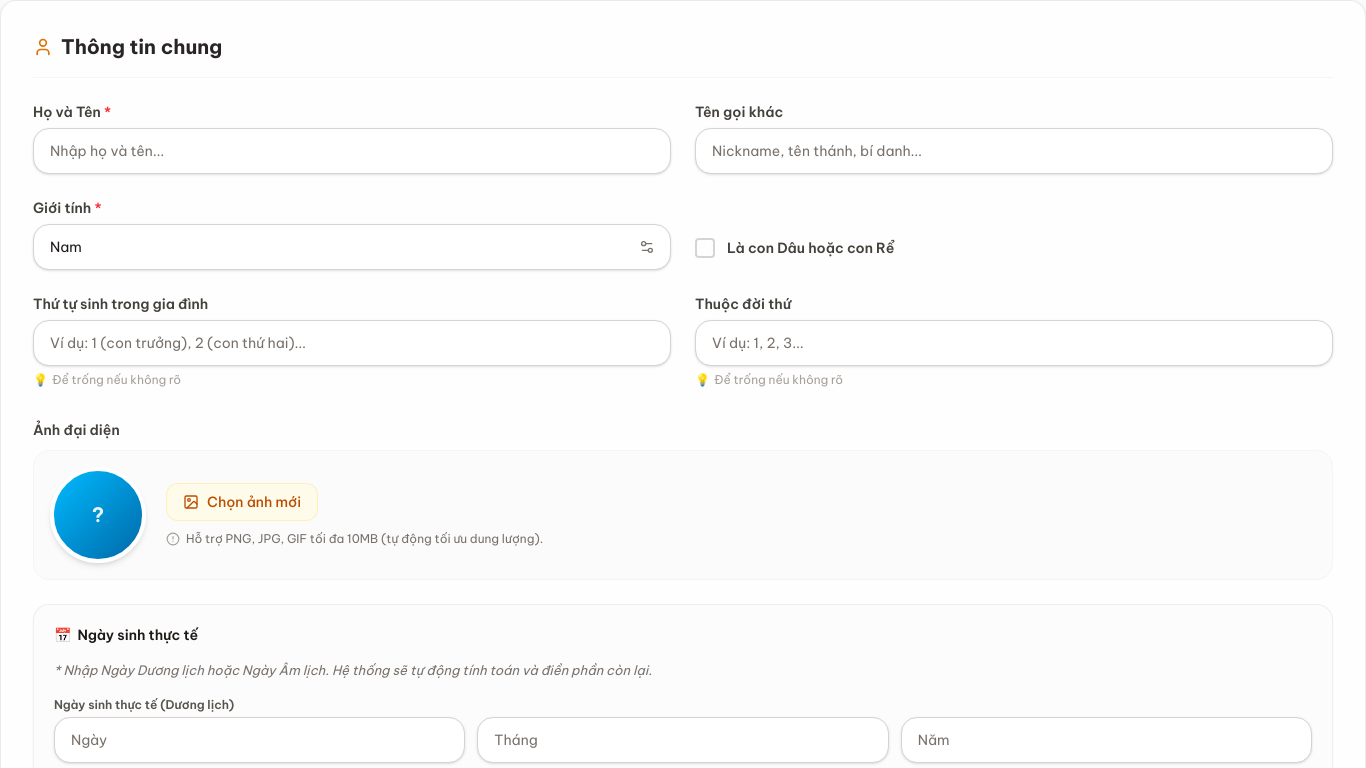
Test: MemberForm › validation › năm mất < năm sinh → hiện lỗi
This screenshot has width=1366, height=768.
Type "Test" into the field with placeholder "Nhập họ và tên...".
click(352, 151); type("Test")  # box top-left (33, 128), bottom-right (671, 174)
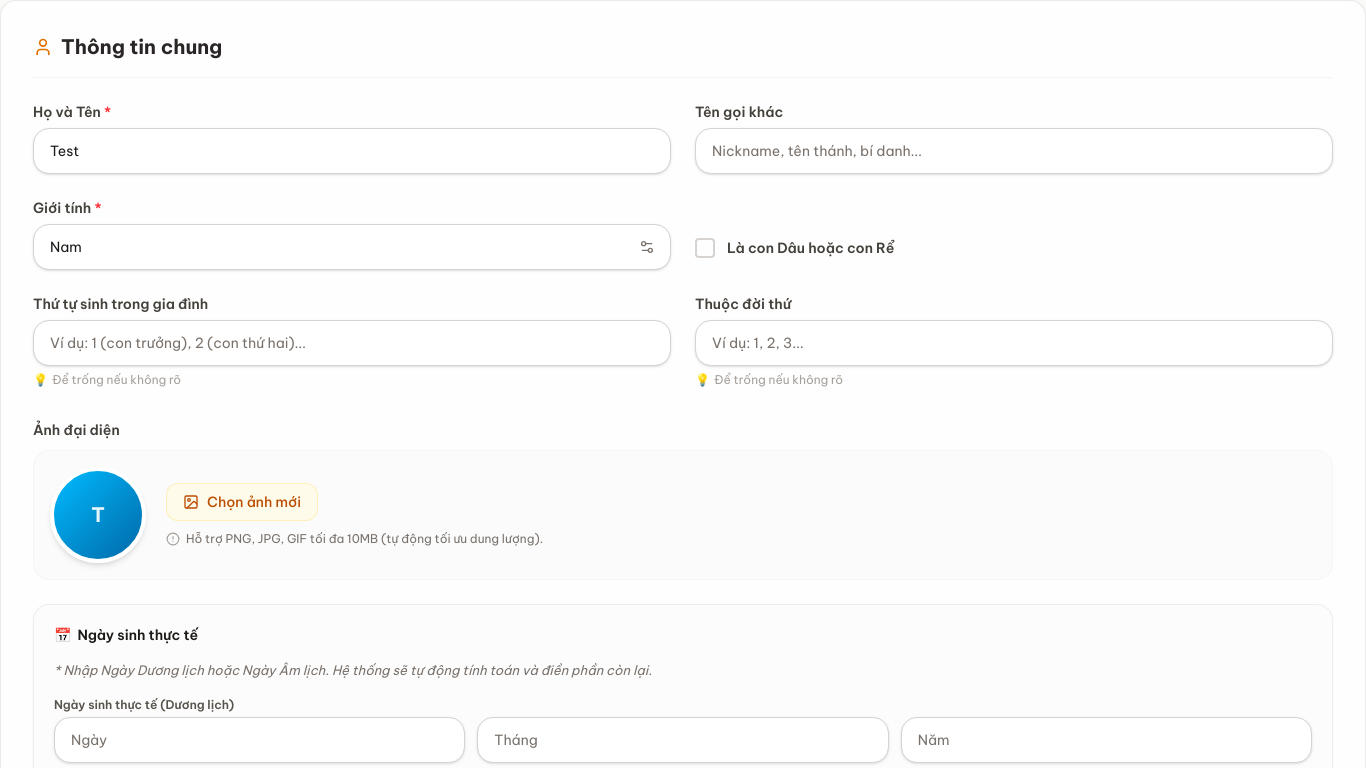
Type "1980" into the number field with placeholder "Năm".
click(1106, 740); type("1980")  # box top-left (901, 716), bottom-right (1312, 762)
(page scrolled)
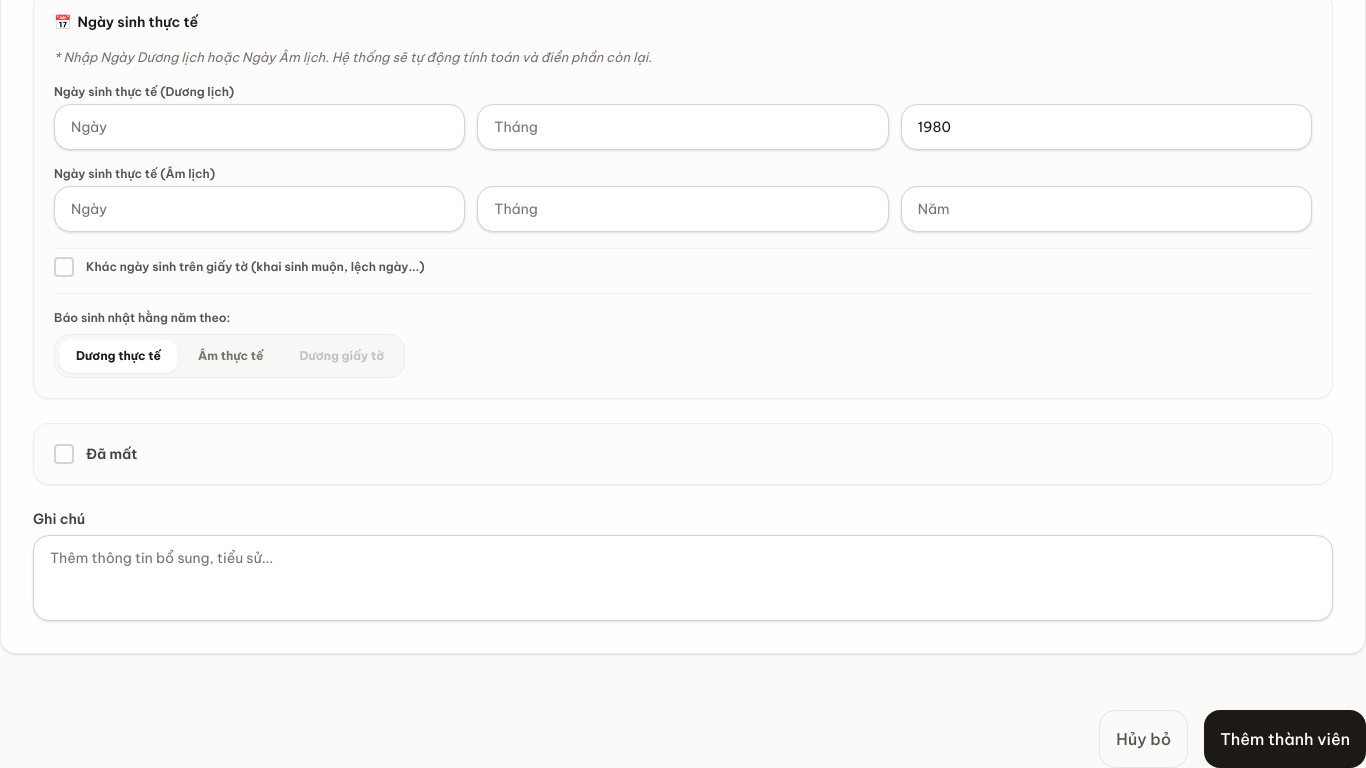
Click the checkbox labelled "Đã mất".
click(96, 454)  # box top-left (54, 444), bottom-right (137, 464)
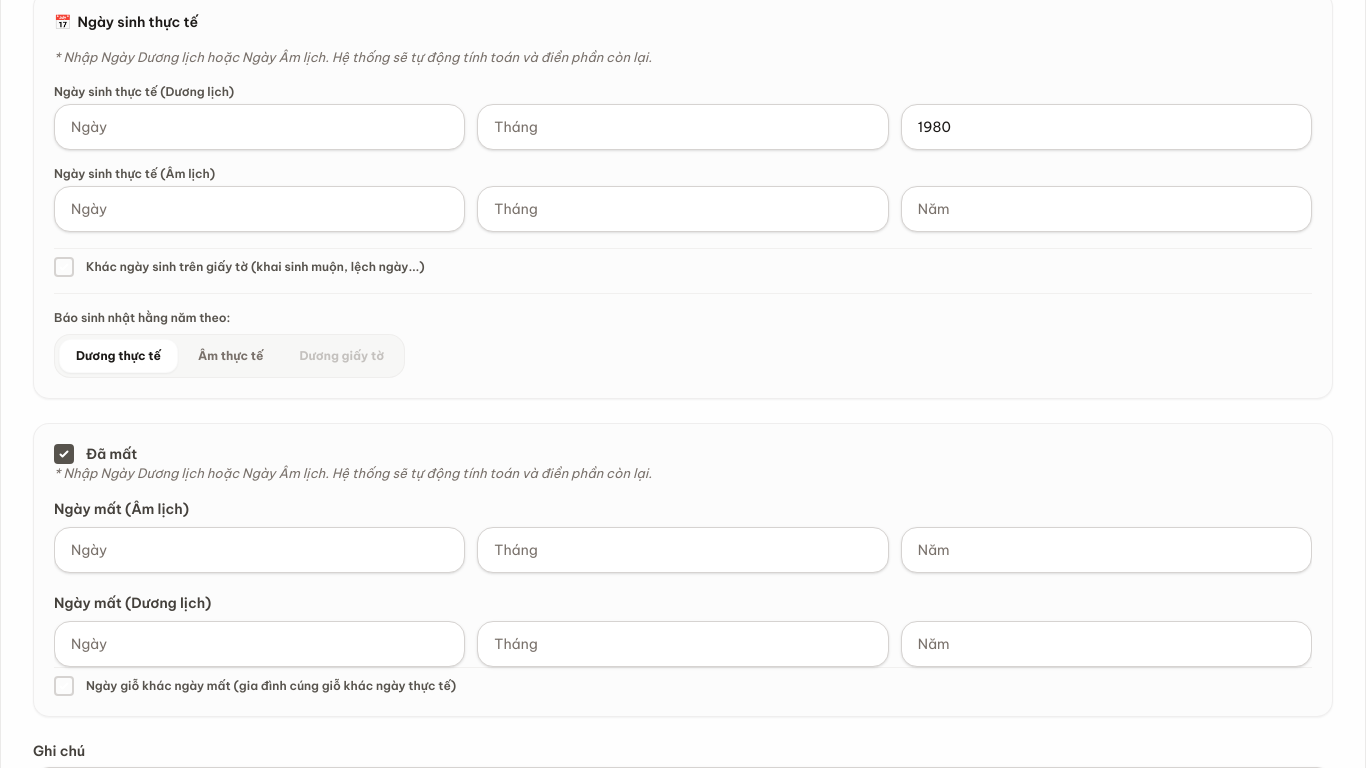
Type "1970" into the 3rd number field with placeholder "Năm".
click(1106, 644); type("1970")  # box top-left (901, 621), bottom-right (1312, 667)
(page scrolled)
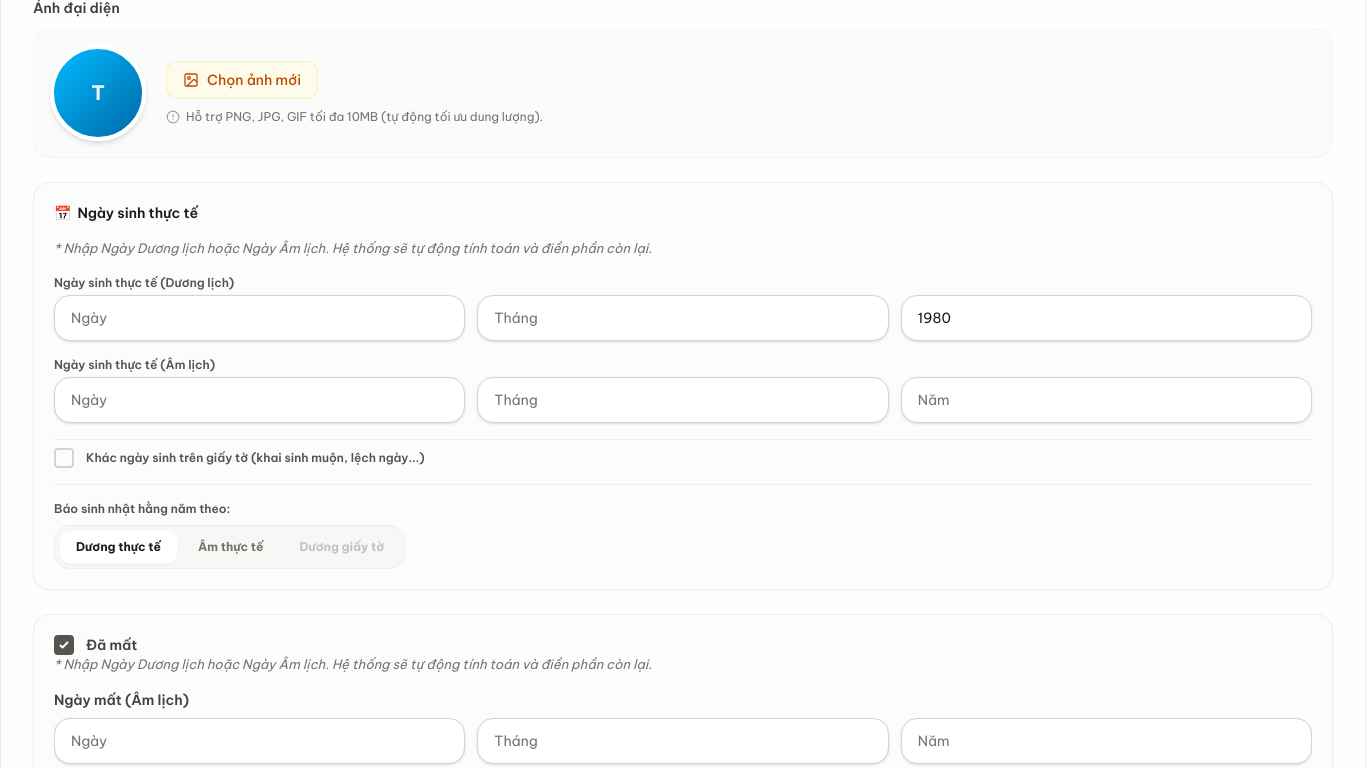
Submit the form
(page scrolled)
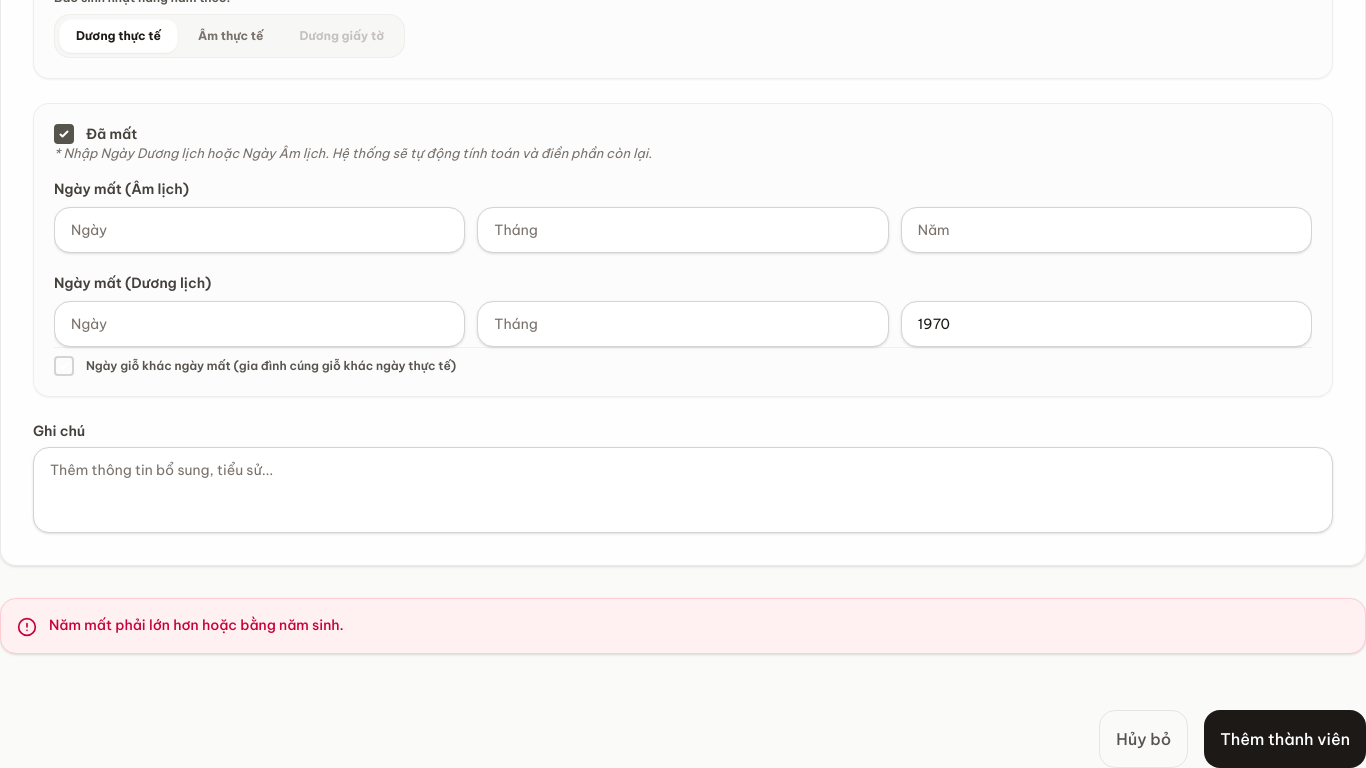
Check: the text "Năm mất phải lớn hơn hoặc bằng năm sinh." is shown, box top-left (49, 615), bottom-right (344, 635)
